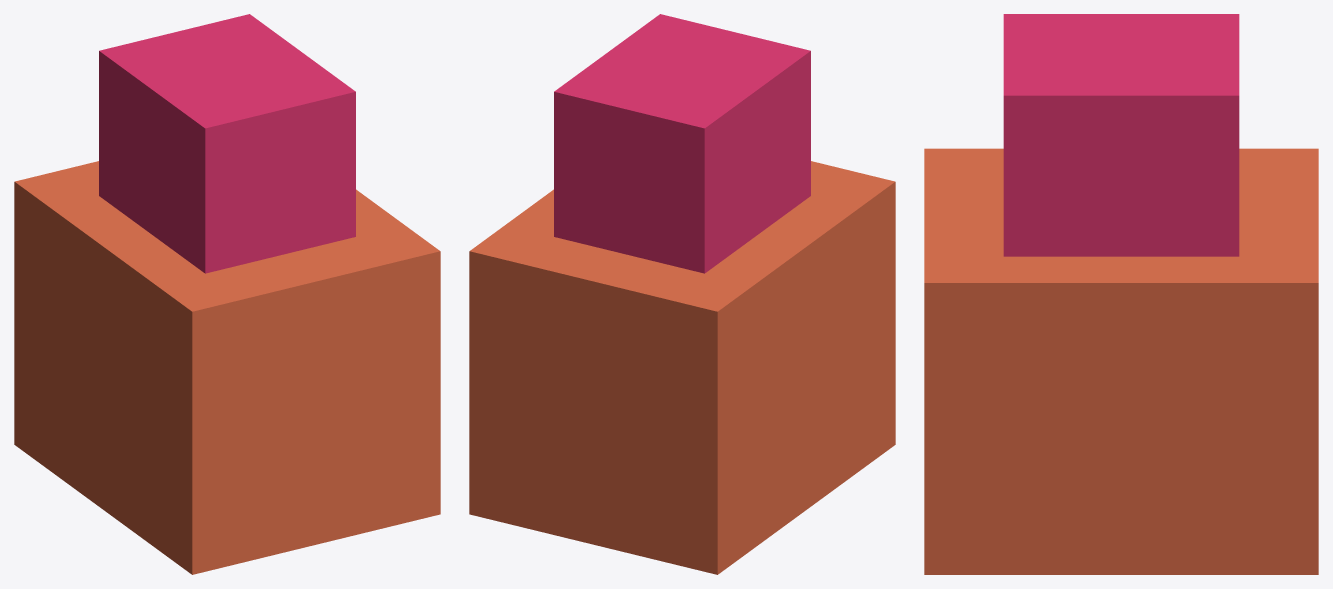
Rendered from enemy.gltf.
3 renders of one model, left to right at view 1: azimuth 30°, elevation 25°; view 2: azimuth 150°, elevation 25°; view 3: azimuth 270°, elevation 25°, orthographic. The views are drawn at different scales.
Visible parts, largest first — view 1: Cube, Cube.001; view 2: Cube, Cube.001; view 3: Cube, Cube.001.
Boxes of the visible parts, x1=… form: Cube: x1=14, y1=161, x2=440, y2=574; Cube.001: x1=99, y1=14, x2=355, y2=273; Cube: x1=469, y1=161, x2=895, y2=574; Cube.001: x1=554, y1=14, x2=810, y2=273; Cube: x1=924, y1=148, x2=1318, y2=574; Cube.001: x1=1003, y1=14, x2=1239, y2=256.
Bounding box in the file's own units: 1.1 × 1.73 × 1.37.
